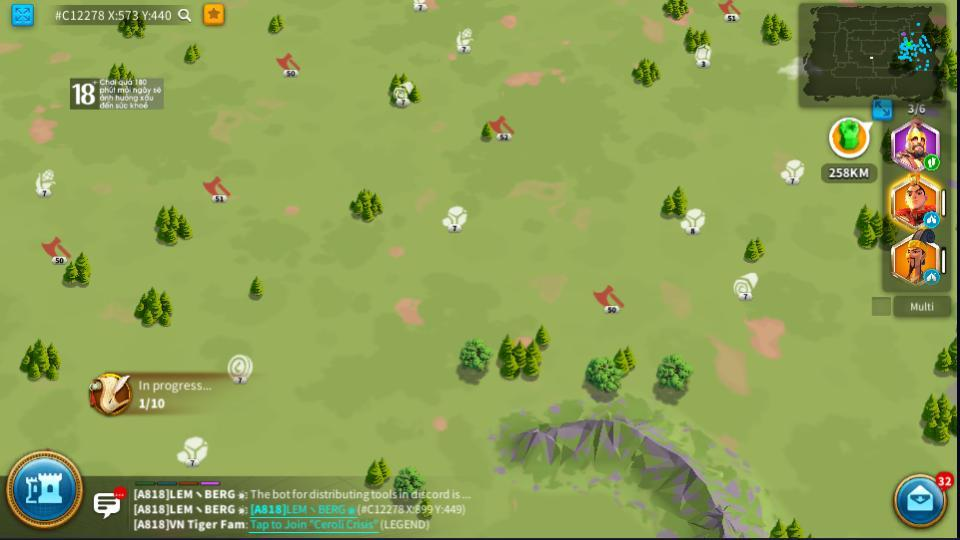gem-z-out: (177, 435, 209, 467)
march_idle: (923, 271, 939, 283), (923, 213, 938, 225)
march_marching: (923, 156, 938, 169)
